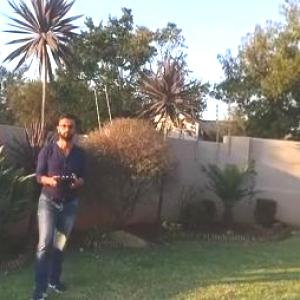follow: (27, 104, 92, 299)
